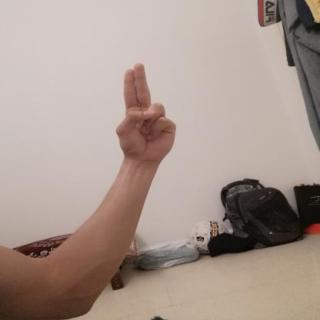TA: (102, 52, 187, 171)
